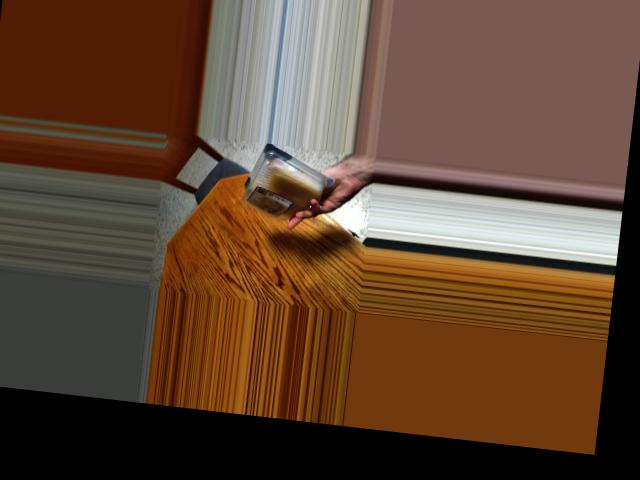cheese: (241, 146, 327, 222)
